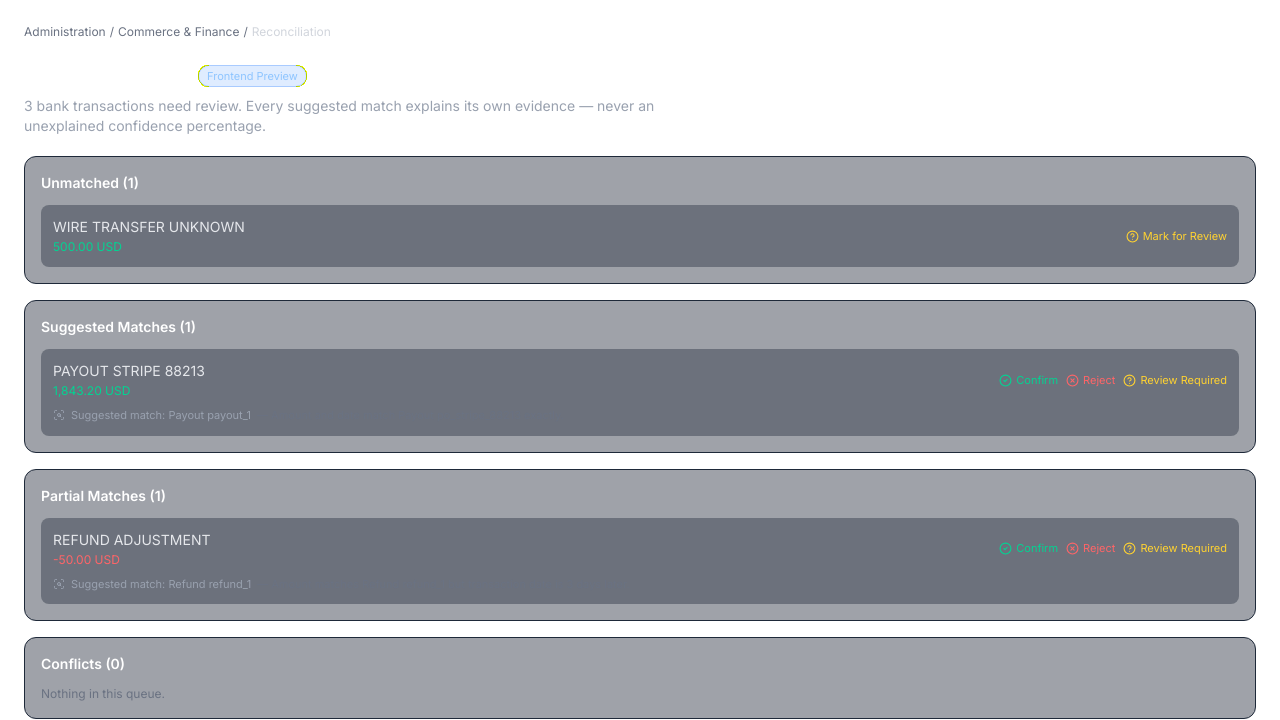
Test: ReconciliationWorkbench › confirming a suggested match moves it toward Matched and shows Undo
Click the button "Confirm" in the row of "PAYOUT STRIPE 88213": (1029, 380) x1=999 y1=372 x2=1058 y2=388
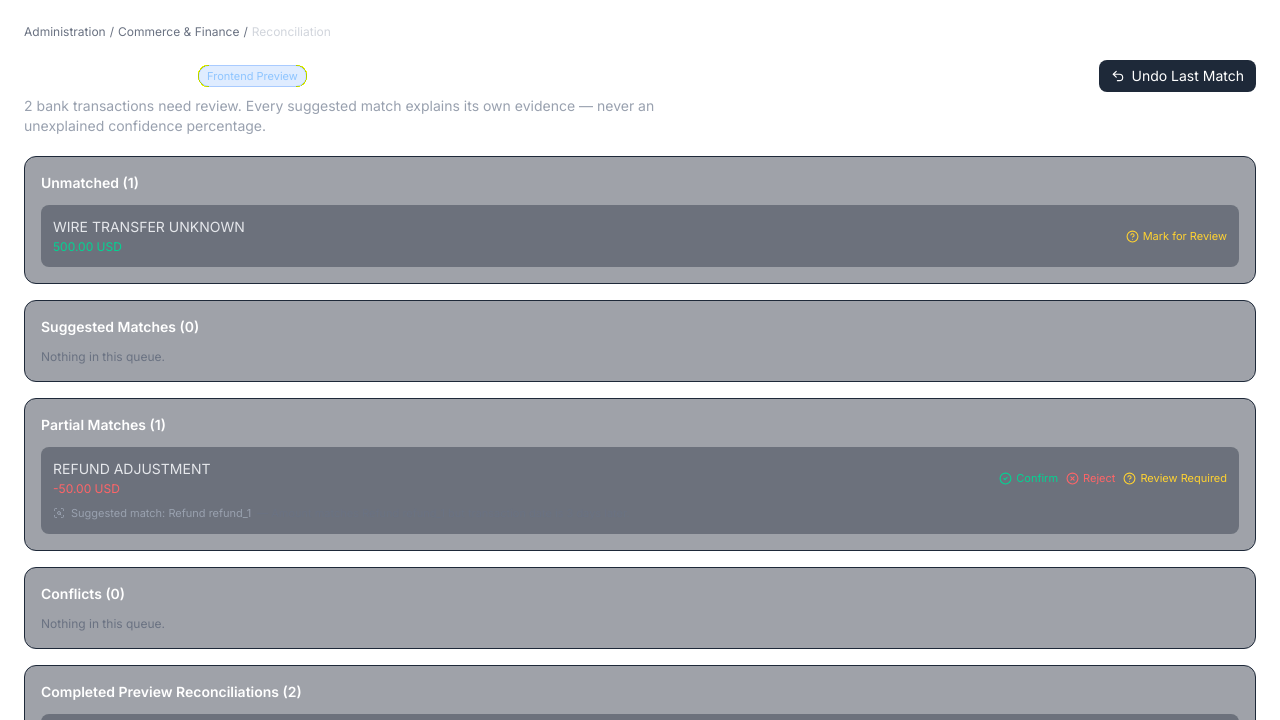
Expected: the button "Undo Last Match" is shown, x1=1100 y1=60 x2=1256 y2=92
